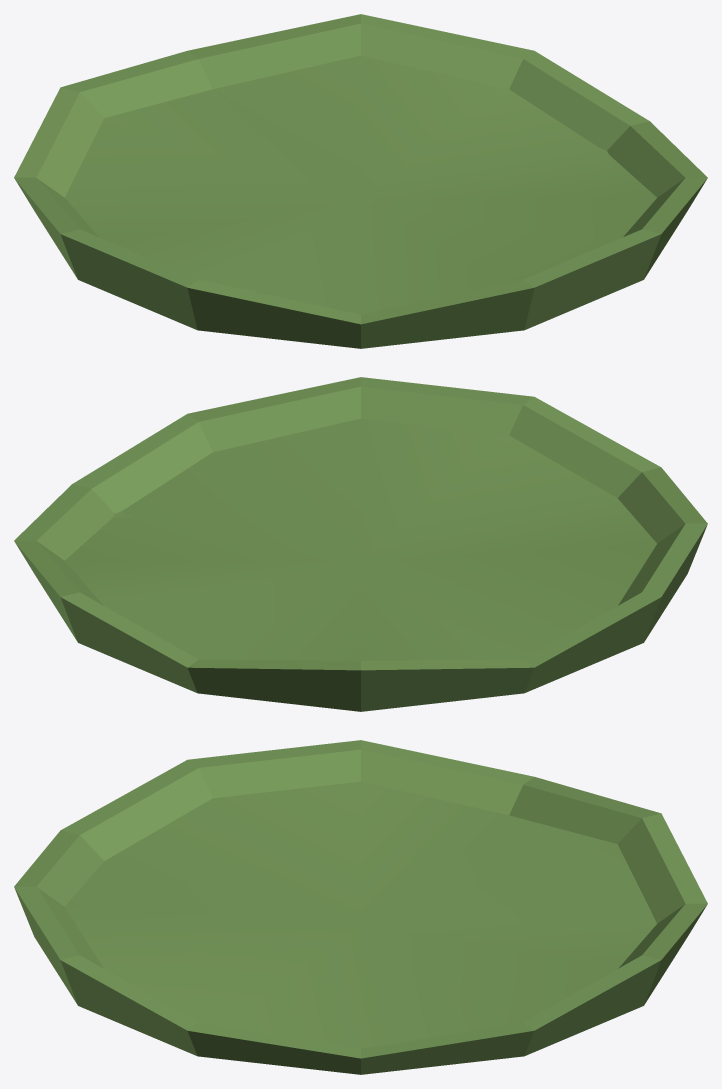
Rendered from lotusleaf2.FBX.
The picture shows the model from 3 angles, top to bottom: view 1: azimuth 30°, elevation 25°; view 2: azimuth 150°, elevation 25°; view 3: azimuth 270°, elevation 25°; orthographic projection.
Visible parts, largest first — view 1: lotusleaf2; view 2: lotusleaf2; view 3: lotusleaf2.
Boxes of the visible parts, bbox=[...] form: lotusleaf2: bbox=[14, 14, 707, 348]; lotusleaf2: bbox=[14, 377, 707, 711]; lotusleaf2: bbox=[14, 740, 707, 1074].
Size of the model in its own units: 41.65 by 3.44 by 42.48.
